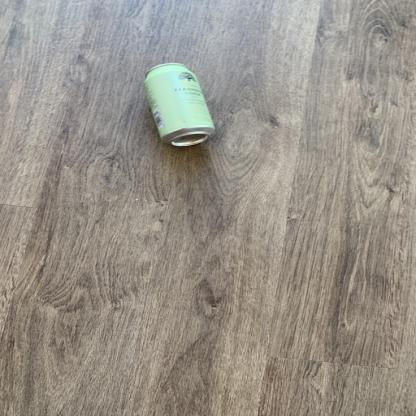trash: (142, 61, 217, 152)
